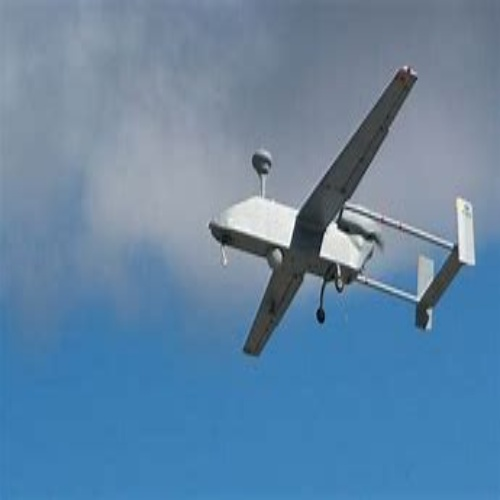uav571: (201, 63, 480, 358)
